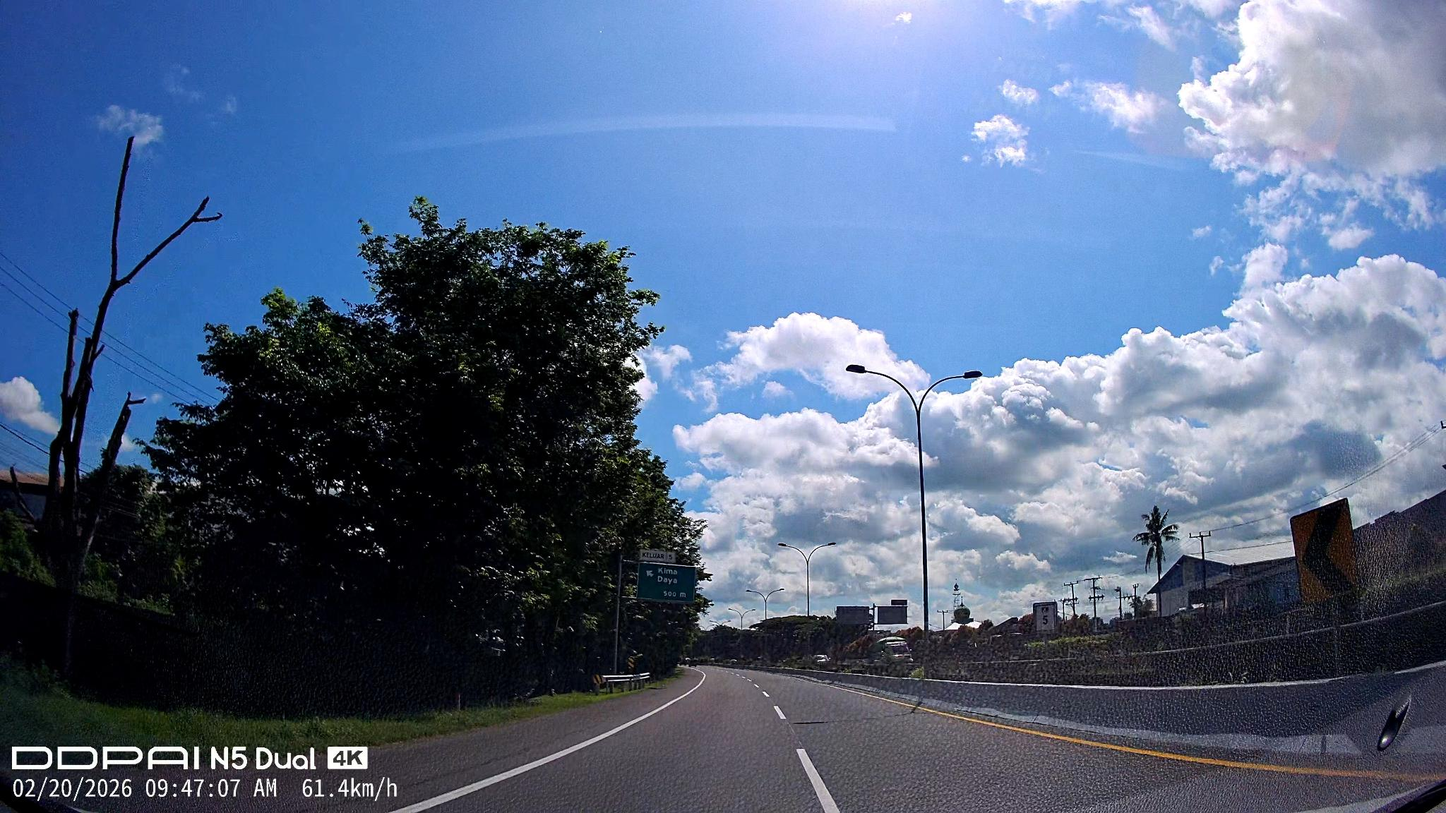rambu_teks: (634, 561, 698, 606)
